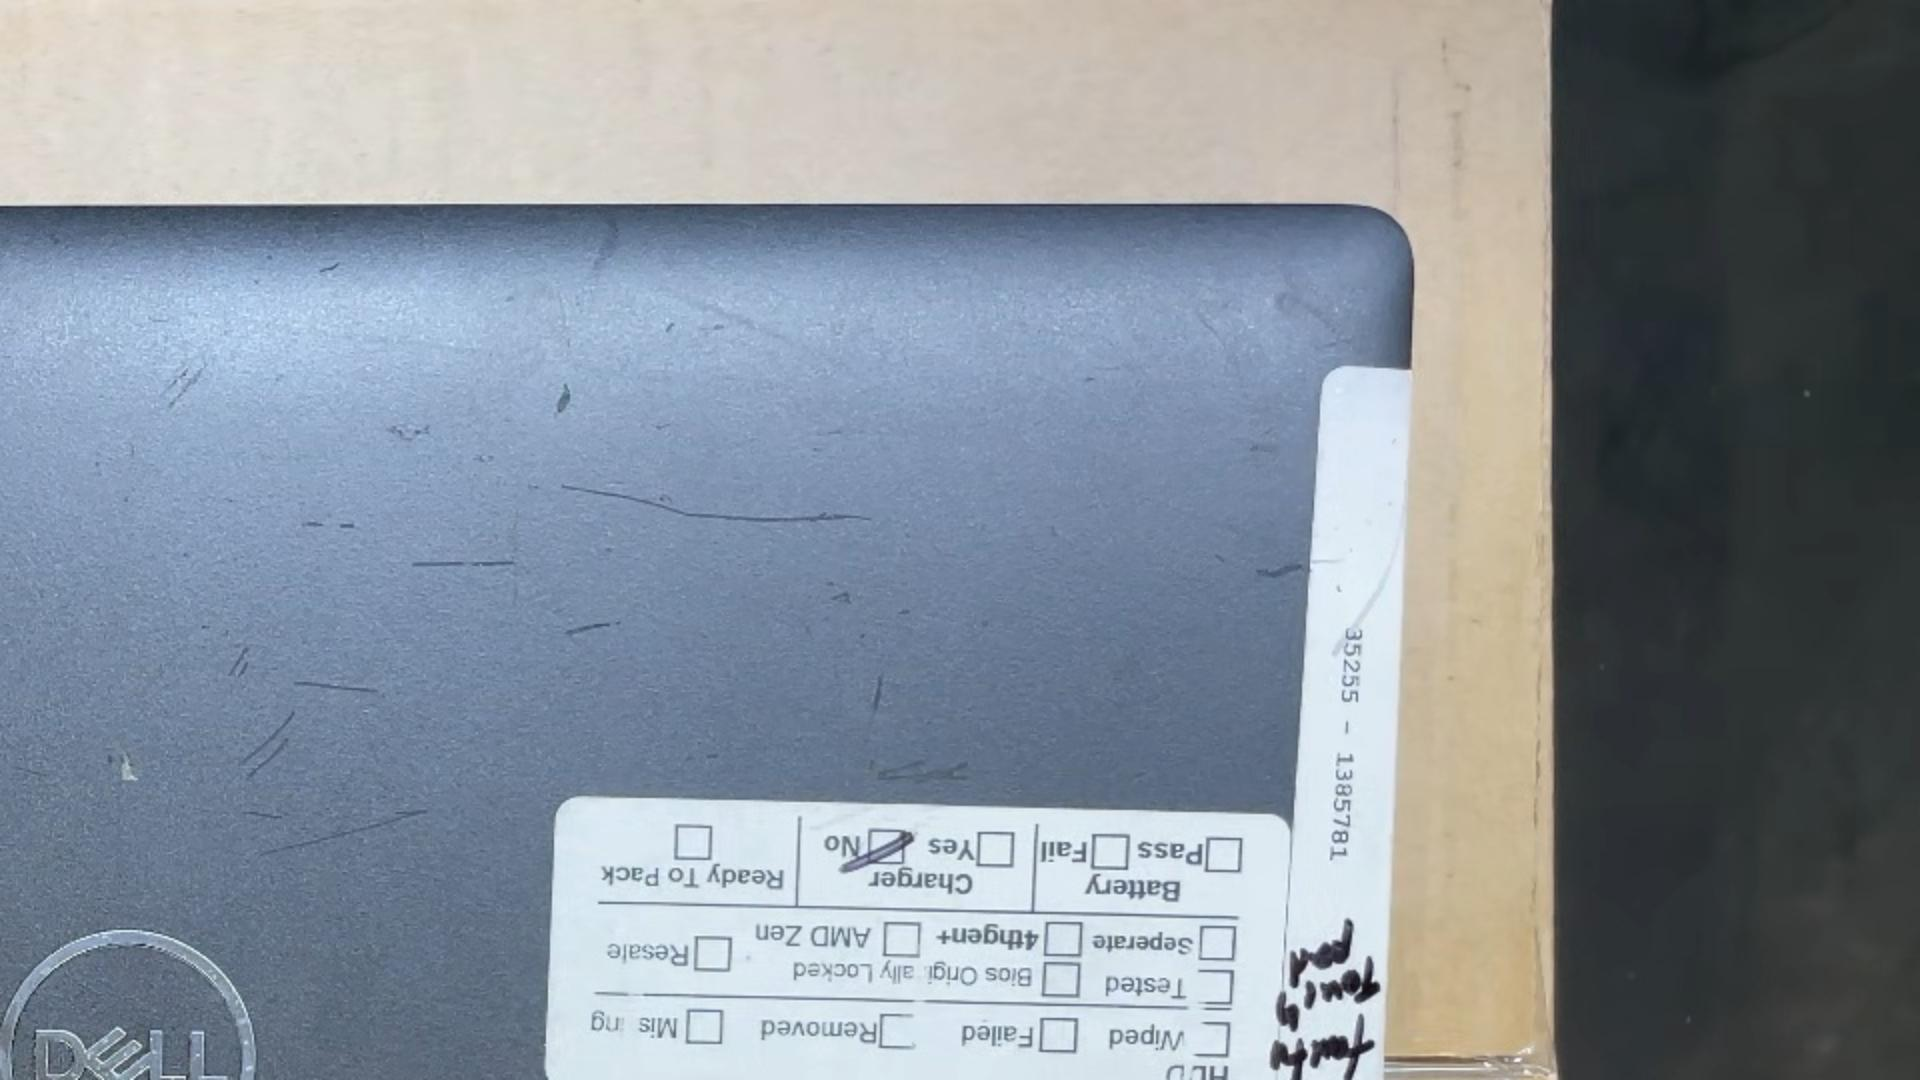chip: (1254, 560, 1305, 580), (115, 752, 140, 787), (386, 425, 433, 440), (554, 384, 575, 415)
scratches: (560, 481, 870, 524), (260, 807, 429, 857), (241, 711, 297, 764), (876, 757, 972, 781), (165, 361, 210, 411), (248, 737, 290, 779), (293, 680, 380, 694), (563, 618, 613, 638), (161, 365, 193, 396), (410, 560, 516, 568), (227, 644, 251, 676), (870, 671, 885, 715), (828, 588, 853, 605), (243, 811, 284, 820), (316, 261, 342, 274), (237, 661, 249, 679), (301, 521, 324, 529), (663, 320, 676, 334), (654, 422, 671, 431), (339, 522, 356, 530)
